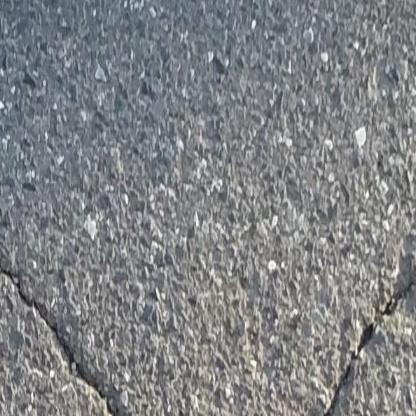Cracks: (0, 216, 153, 416), (307, 263, 416, 416)
